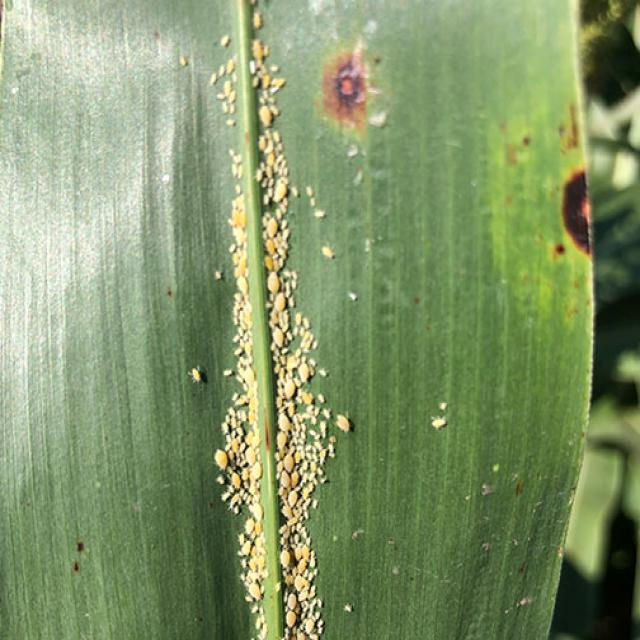Aphid-Grouped-: (210, 145, 343, 634)
